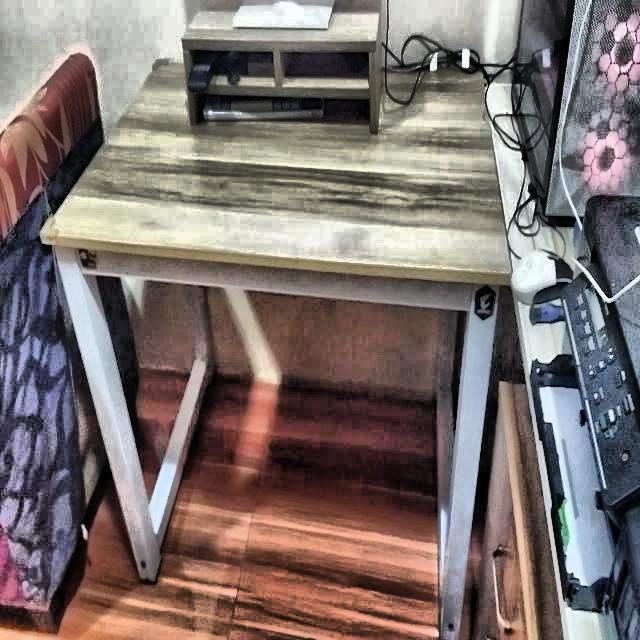mesa: (51, 46, 511, 623)
